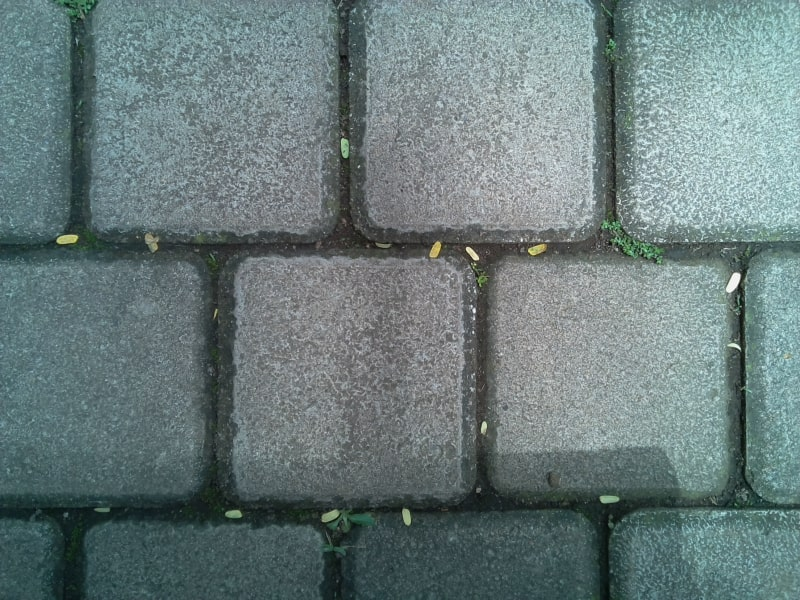Weed: (602, 219, 662, 263), (326, 506, 374, 534), (324, 541, 353, 559), (603, 39, 620, 64), (474, 272, 490, 293)
